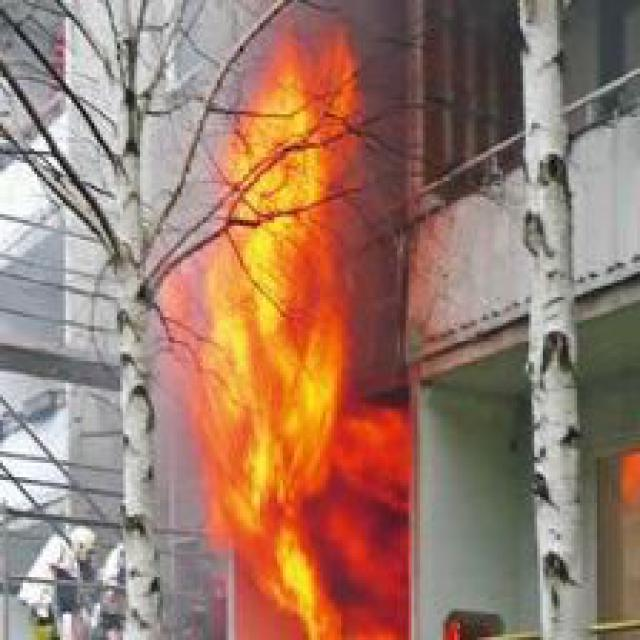fire: (180, 17, 417, 637)
